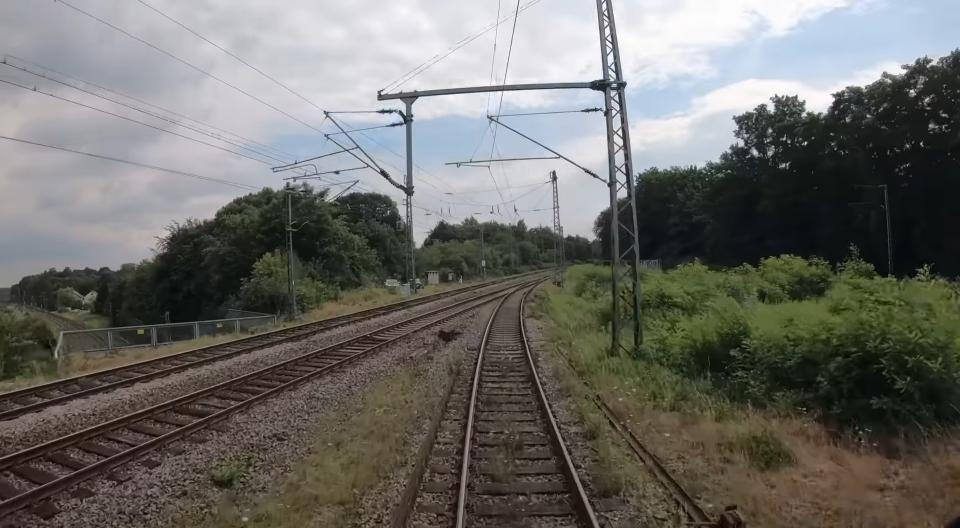Plant: (201, 346, 464, 528), (551, 356, 624, 495), (524, 281, 549, 318), (208, 464, 242, 488)
